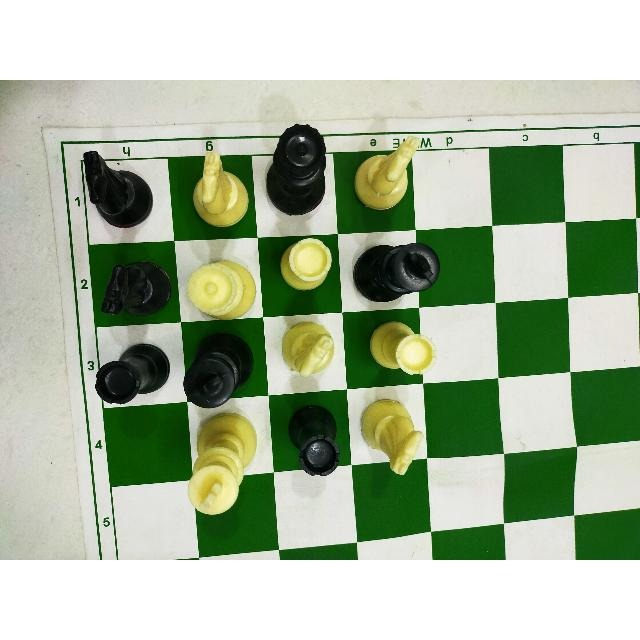black-king: (346, 230, 442, 308), (180, 328, 260, 413)
black-knight: (77, 140, 161, 233), (97, 253, 179, 323)
black-queen: (262, 114, 328, 225)
black-rook: (91, 334, 176, 411), (281, 398, 347, 485)
white-king: (178, 409, 264, 521)
white-knight: (352, 131, 429, 219), (353, 395, 427, 481), (187, 145, 253, 233), (278, 319, 343, 388)
white-queen: (183, 253, 263, 326)
white-rook: (363, 317, 443, 381), (275, 235, 337, 299)
